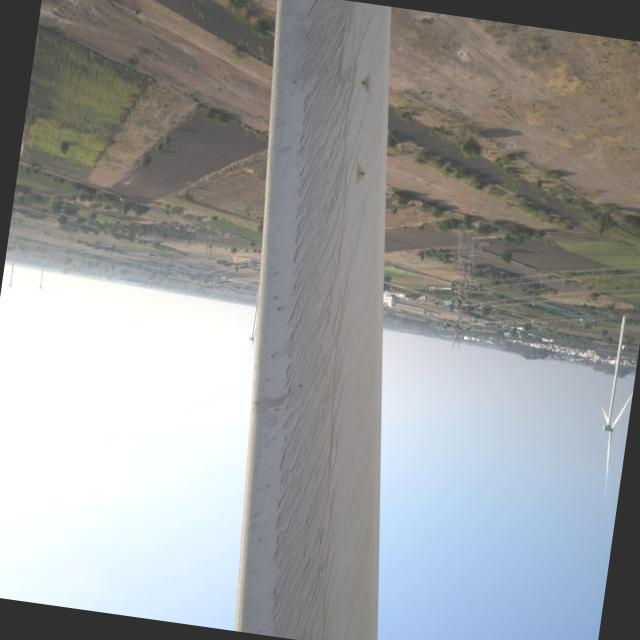Dirt: (268, 1, 377, 638)
Pin Hole: (356, 164, 370, 181), (361, 74, 372, 90)
